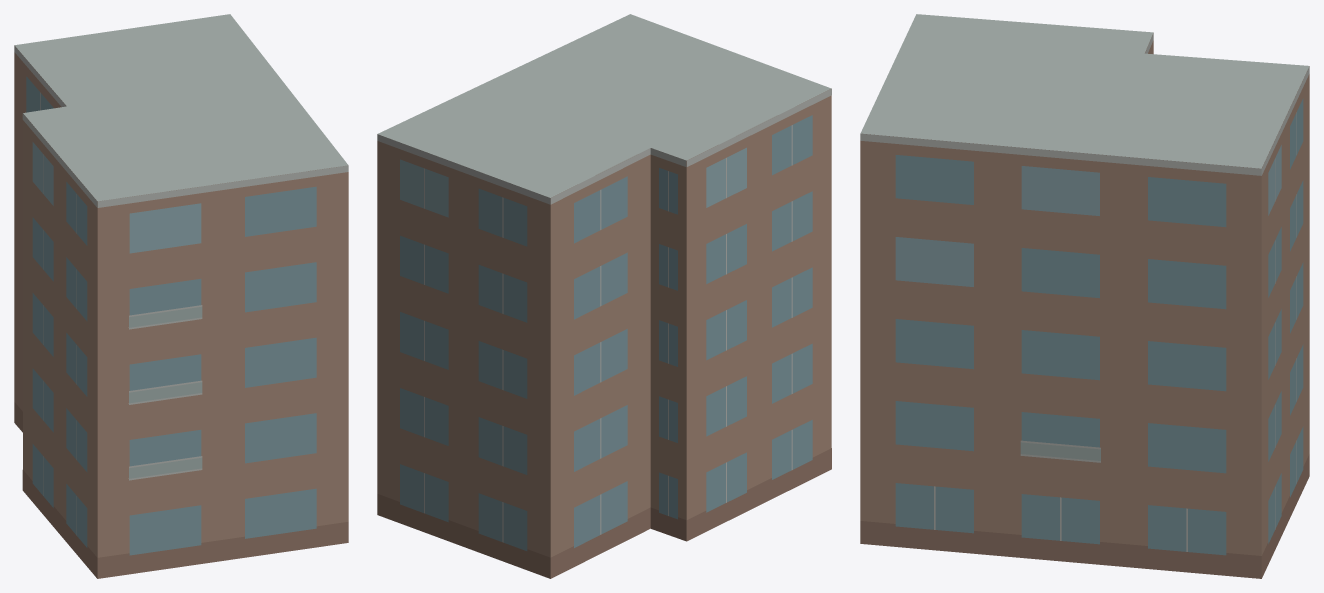
Rendered from survey-upis-32871298.glb.
The picture shows the model from 3 angles, left to right: view 1: azimuth 30°, elevation 25°; view 2: azimuth 150°, elevation 25°; view 3: azimuth 270°, elevation 25°; orthographic projection. The views are drawn at different scales.
Visible parts, largest first — view 1: survey-upis-32871298.tmp; view 2: survey-upis-32871298.tmp; view 3: survey-upis-32871298.tmp.
Boxes of the visible parts, x1,y1,x2,y2 form: survey-upis-32871298.tmp: [14, 14, 348, 578]; survey-upis-32871298.tmp: [377, 14, 831, 578]; survey-upis-32871298.tmp: [860, 14, 1309, 578].
Size of the model in its own units: 11.17 by 13.8 by 13.71.
